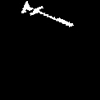double_crochet: (22, 1, 72, 26)
